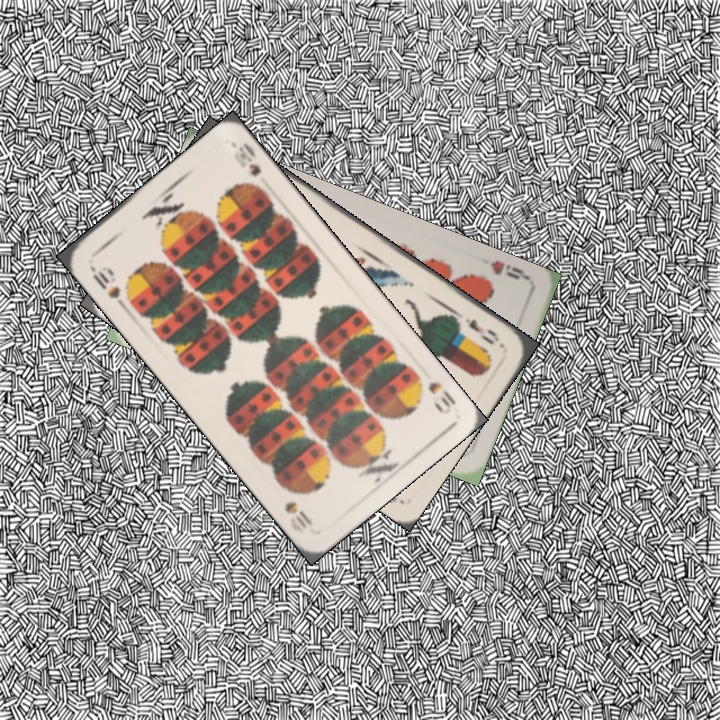EO: (460, 314, 502, 348)
H9: (486, 256, 532, 283)
S10: (411, 369, 459, 417), (85, 261, 128, 310)
